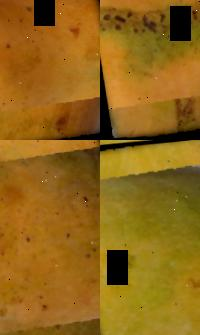PartiallyRipe: (0, 140, 100, 335), (100, 140, 200, 335)
Ripe: (0, 0, 100, 140), (100, 0, 200, 140)
